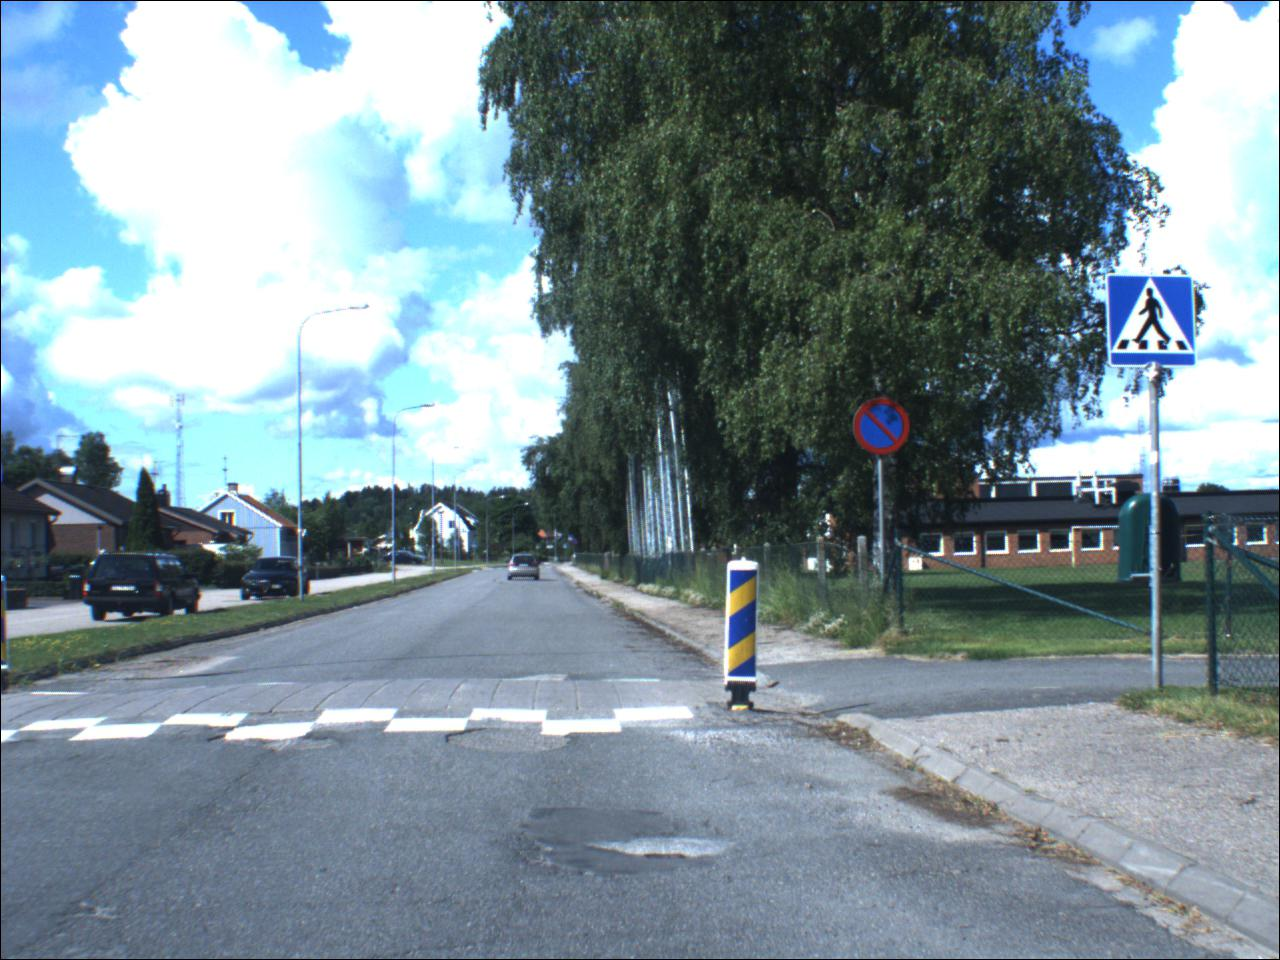NO_PARKING: (855, 396, 913, 456)
PEDESTRIAN_CROSSING: (1109, 276, 1199, 370)
